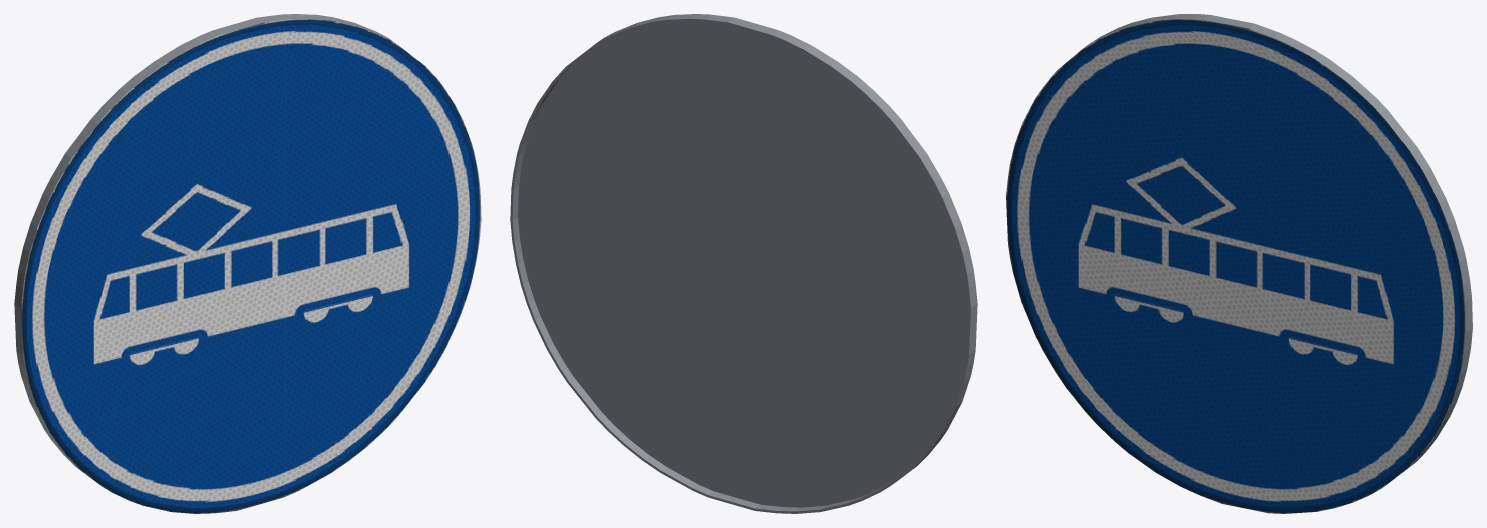
The picture shows the model from 3 angles, left to right: view 1: azimuth 30°, elevation 25°; view 2: azimuth 150°, elevation 25°; view 3: azimuth 330°, elevation 25°; orthographic projection.
Visible parts, largest first — view 1: cat_6d0406b0bbf0f4c8; view 2: cat_6d0406b0bbf0f4c8; view 3: cat_6d0406b0bbf0f4c8.
Boxes of the visible parts, x1,y1,x2,y2 form: cat_6d0406b0bbf0f4c8: (14,14,481,513); cat_6d0406b0bbf0f4c8: (510,14,977,513); cat_6d0406b0bbf0f4c8: (1006,14,1472,513).
Size of the model in its own units: 0.6 by 0.015 by 0.6.
Materials: 2 (1 with a texture image).
